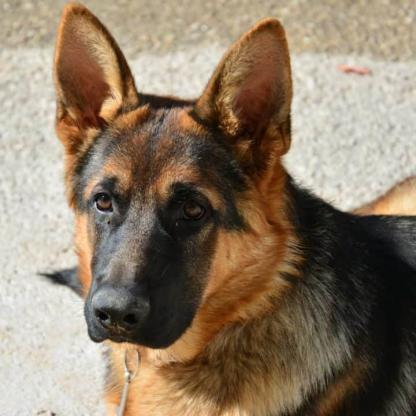dog: (47, 7, 415, 416)
